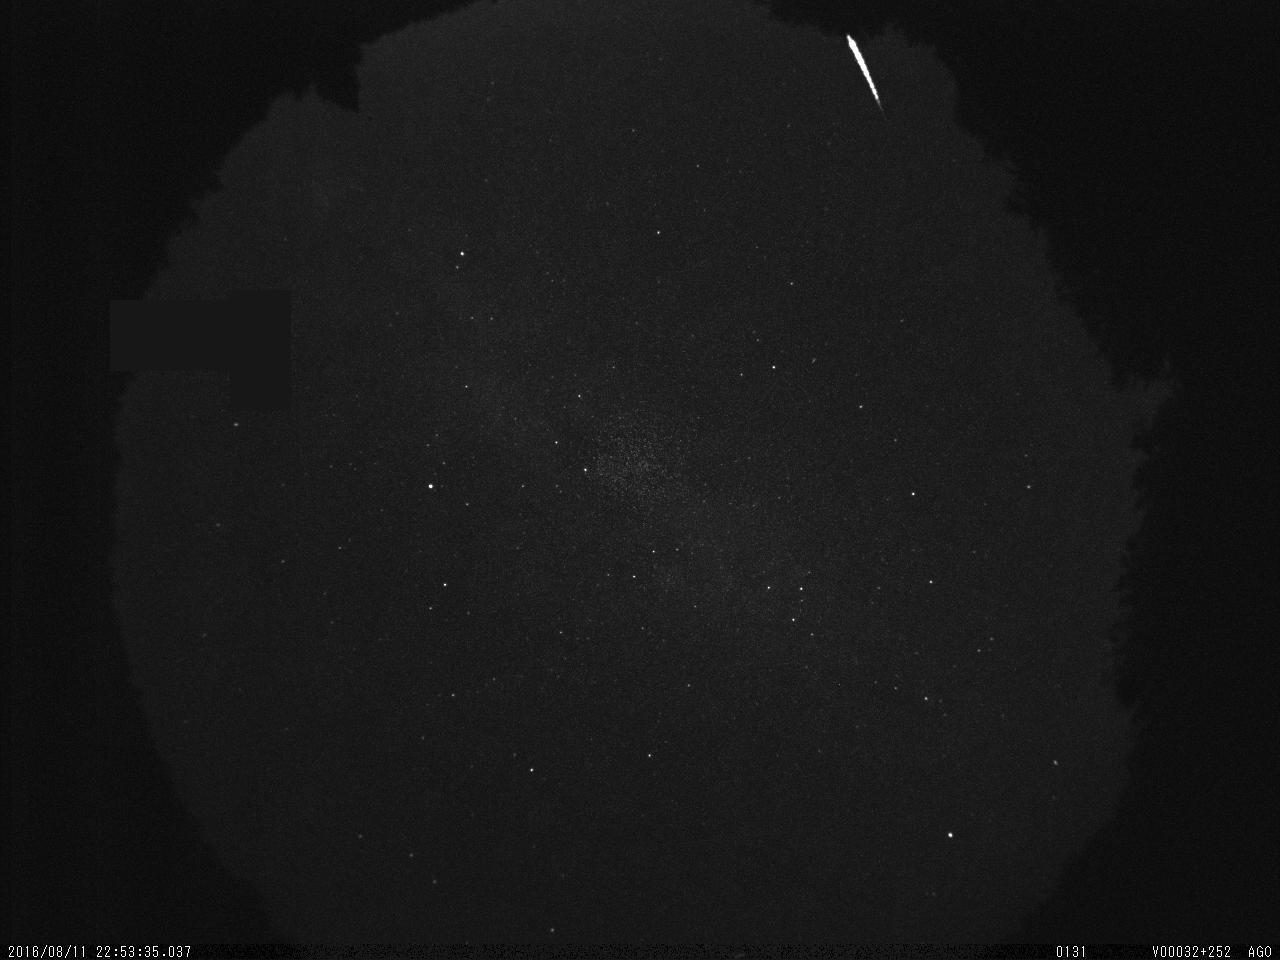meteor: (839, 28, 894, 120)
